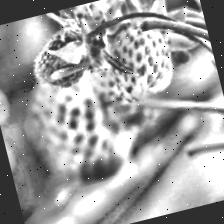Gray Mold: (19, 0, 137, 99)
